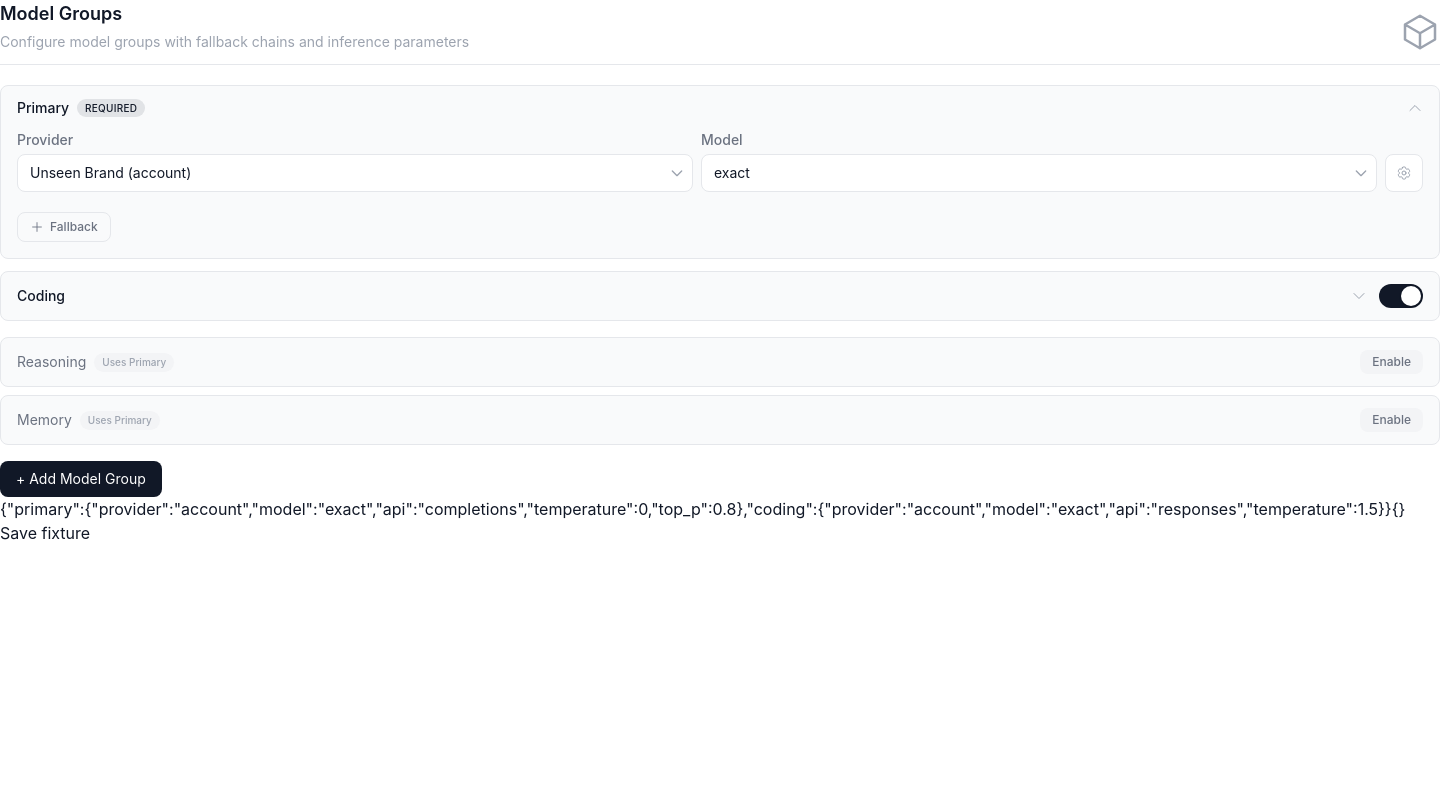
Test: keeps two groups independent, preserves unsupported values, and switches protocols without a new live list
Click the button named "Primary parameters" at (1404, 173), box [1385,154,1423,192]
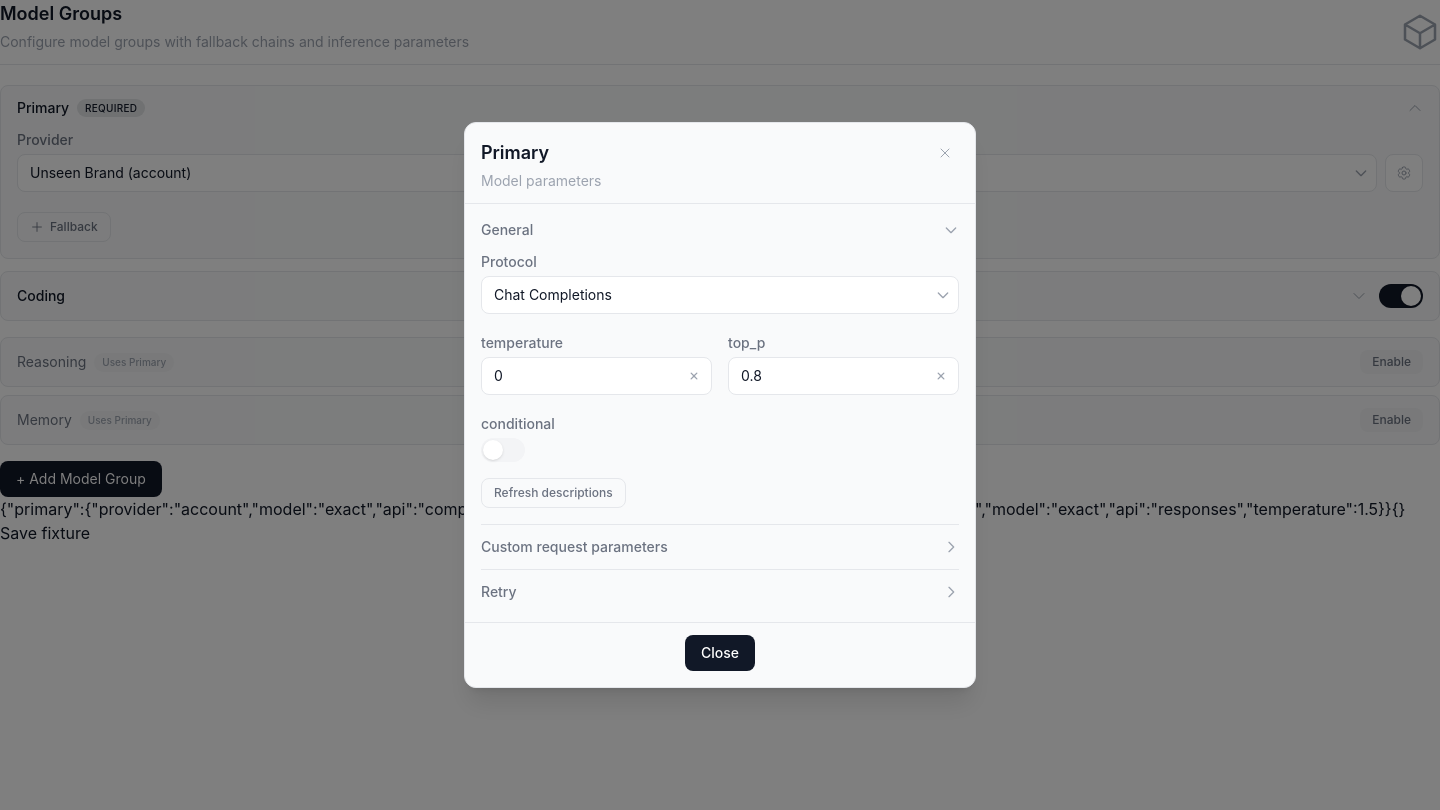
Check: the number field labelled "temperature" is shown, box [481,357,712,395]
Press ArrowDown in the dropdown labelled "Protocol", box [481,276,959,314]
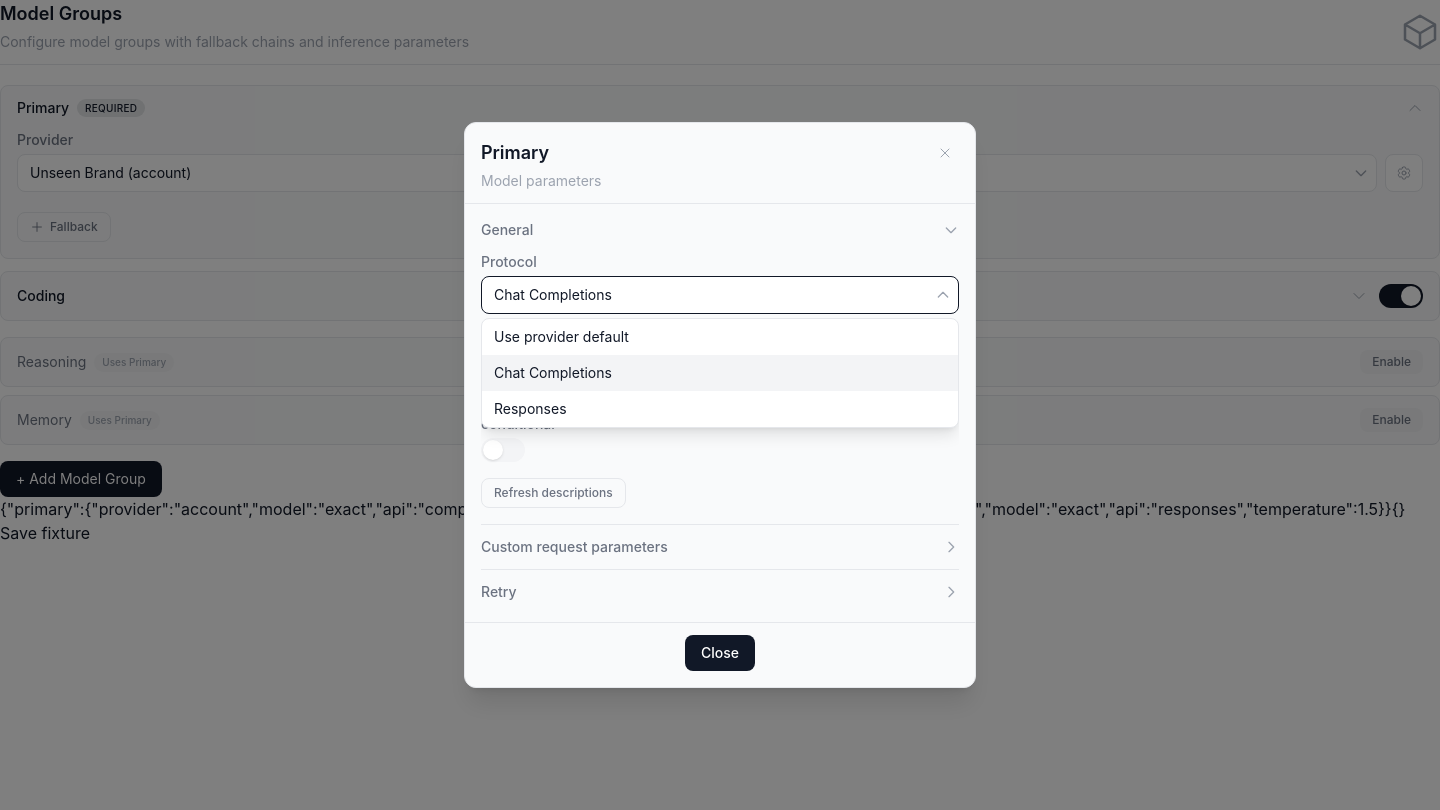
Click the option "Responses" at (530, 408), box [494,400,566,417]
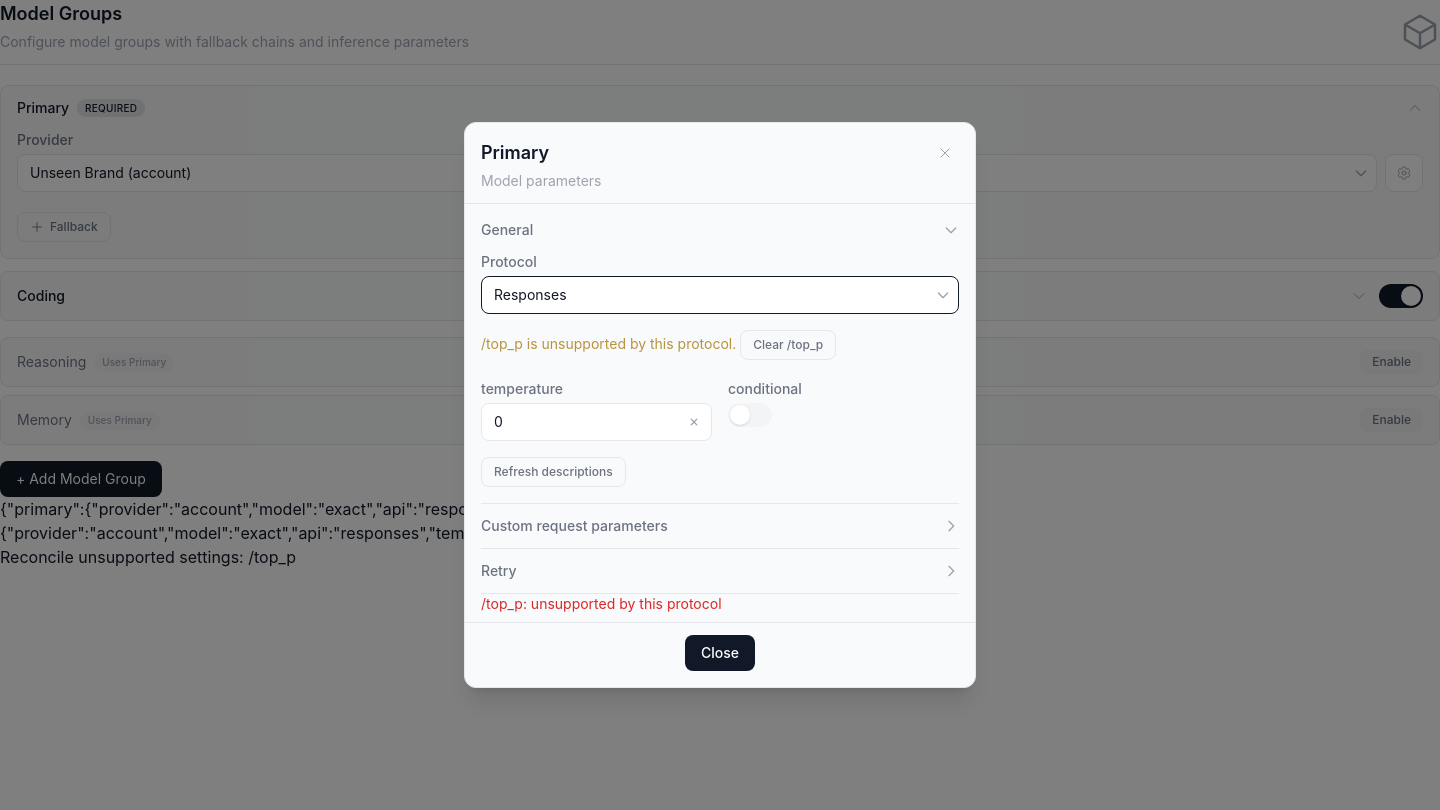
Click the button "Clear /top_p" at (788, 345), box [740,330,836,360]
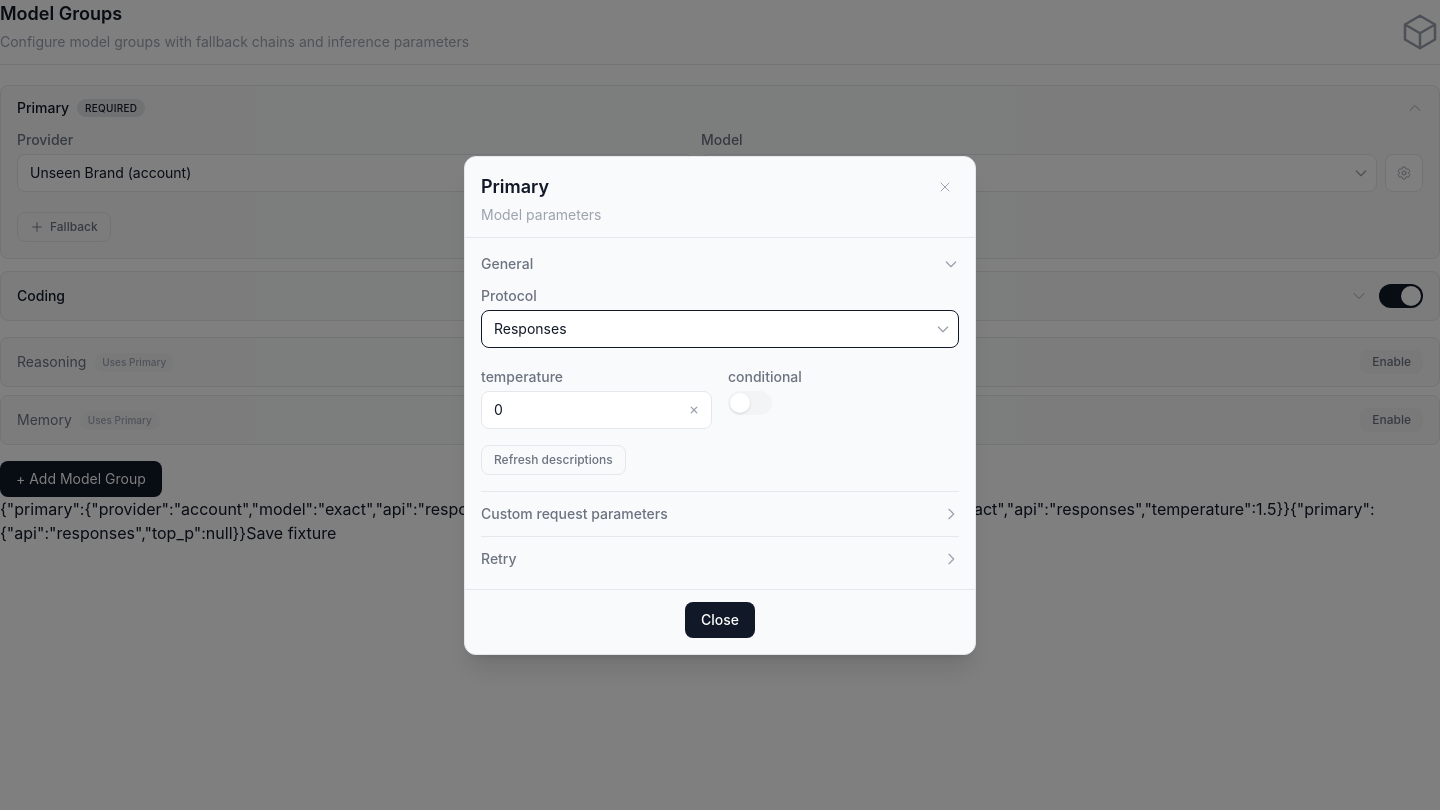
Check: the button "Save fixture" is enabled, box [246,521,336,545]
